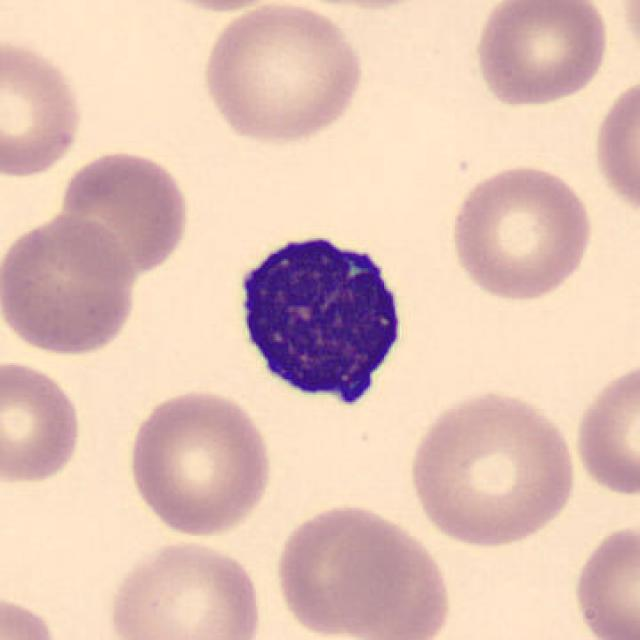Lymphocyte: (223, 217, 422, 421)
RBC: (404, 386, 582, 550), (197, 0, 368, 148), (123, 384, 277, 540), (444, 159, 598, 303), (270, 499, 423, 640), (2, 213, 140, 360), (55, 147, 194, 280), (103, 536, 265, 640), (321, 522, 452, 640), (471, 0, 611, 109), (0, 33, 89, 180), (0, 356, 87, 488), (570, 354, 640, 500), (569, 518, 638, 640), (590, 70, 638, 226), (0, 590, 66, 640), (281, 0, 443, 14), (137, 0, 295, 14), (615, 0, 640, 72)
